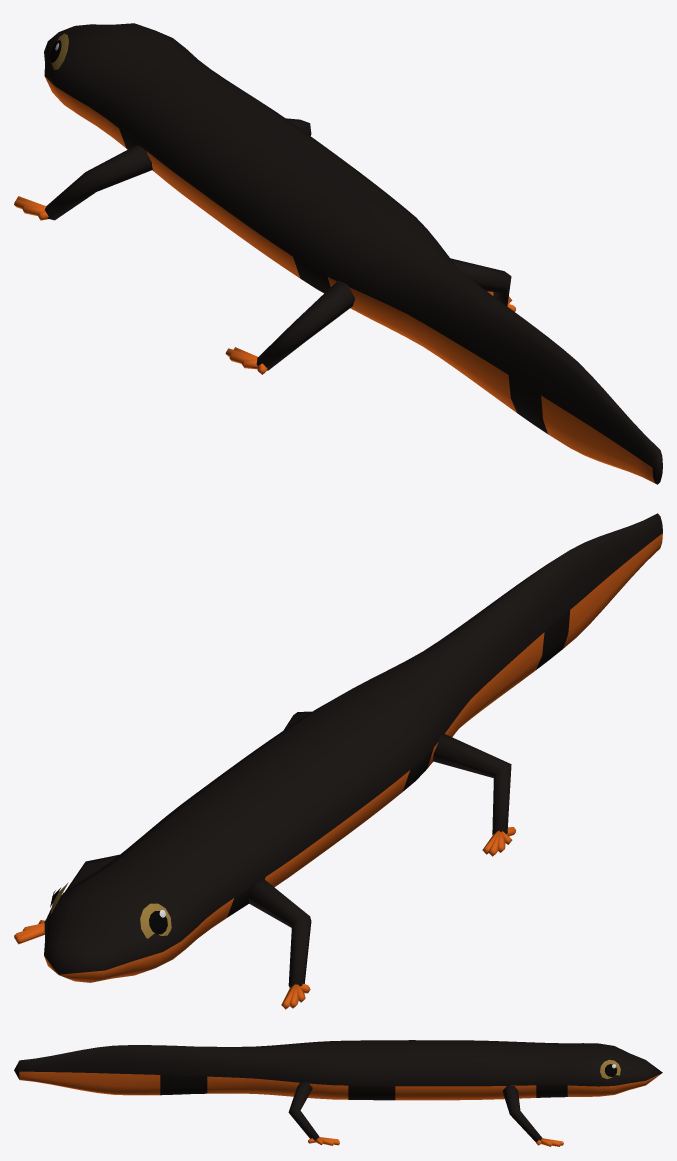
Rendered from fire_newt.glb.
3 renders of one model, top to bottom at view 1: azimuth 30°, elevation 25°; view 2: azimuth 150°, elevation 25°; view 3: azimuth 270°, elevation 25°, orthographic. The views are drawn at different scales.
Parts seen in each view (by area): view 1: fire_newt; view 2: fire_newt; view 3: fire_newt.
Part boxes in pixels (bbox=[...]): fire_newt: bbox=[14, 23, 662, 484]; fire_newt: bbox=[14, 513, 662, 1009]; fire_newt: bbox=[14, 1040, 662, 1146].
Bounding box in the file's own units: 0.6456 × 0.2691 × 2.38.
